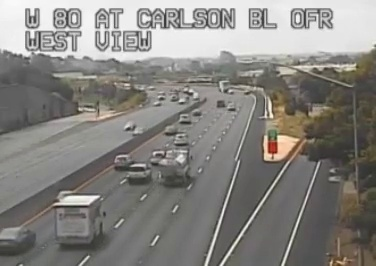car: (1, 226, 35, 254), (127, 163, 151, 180), (113, 154, 132, 168), (149, 150, 164, 164), (174, 133, 188, 145)
small-truck: (55, 195, 104, 247)
tank-truck: (162, 149, 190, 184)
